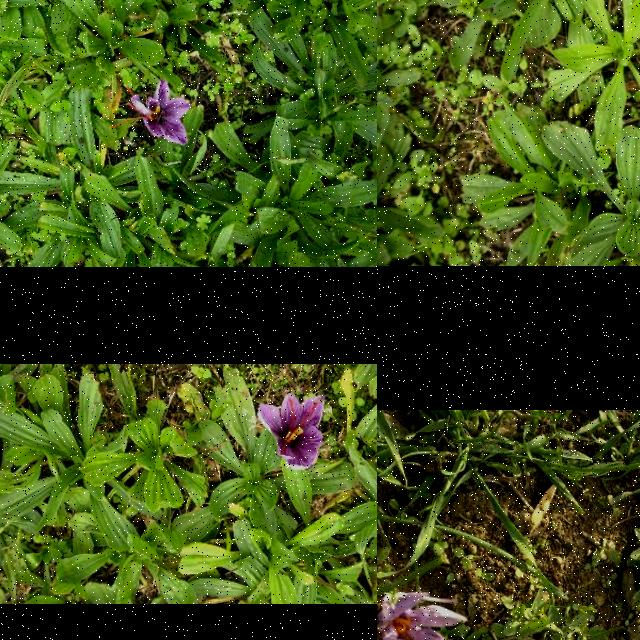flower: (260, 394, 326, 470), (130, 80, 192, 146)
